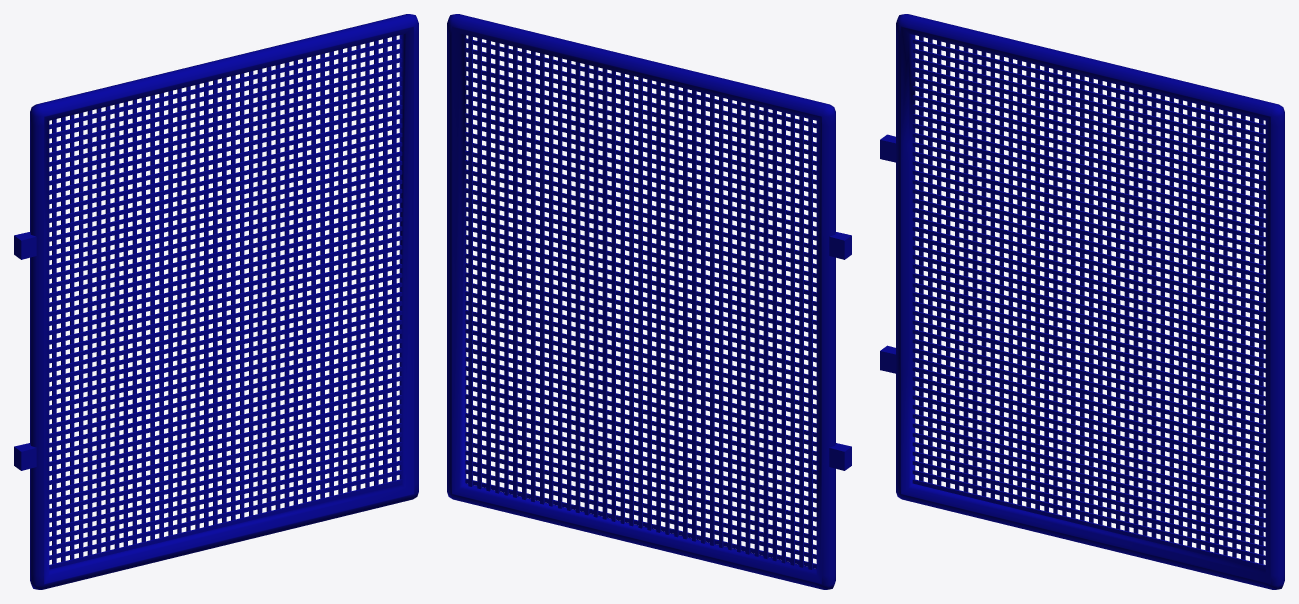
File: gate test 2.fbx
3 views of the same model, side by side, from view 1: azimuth 30°, elevation 25°; view 2: azimuth 150°, elevation 25°; view 3: azimuth 330°, elevation 25° (orthographic).
Visible parts, largest first — view 1: polySurface203; view 2: polySurface203; view 3: polySurface203.
Part boxes in pixels (x1,y1,x2,y2): polySurface203: [14, 14, 418, 589]; polySurface203: [447, 14, 851, 589]; polySurface203: [880, 14, 1284, 589].
Size of the model in its own units: 1.87 by 2.16 by 0.0758.
